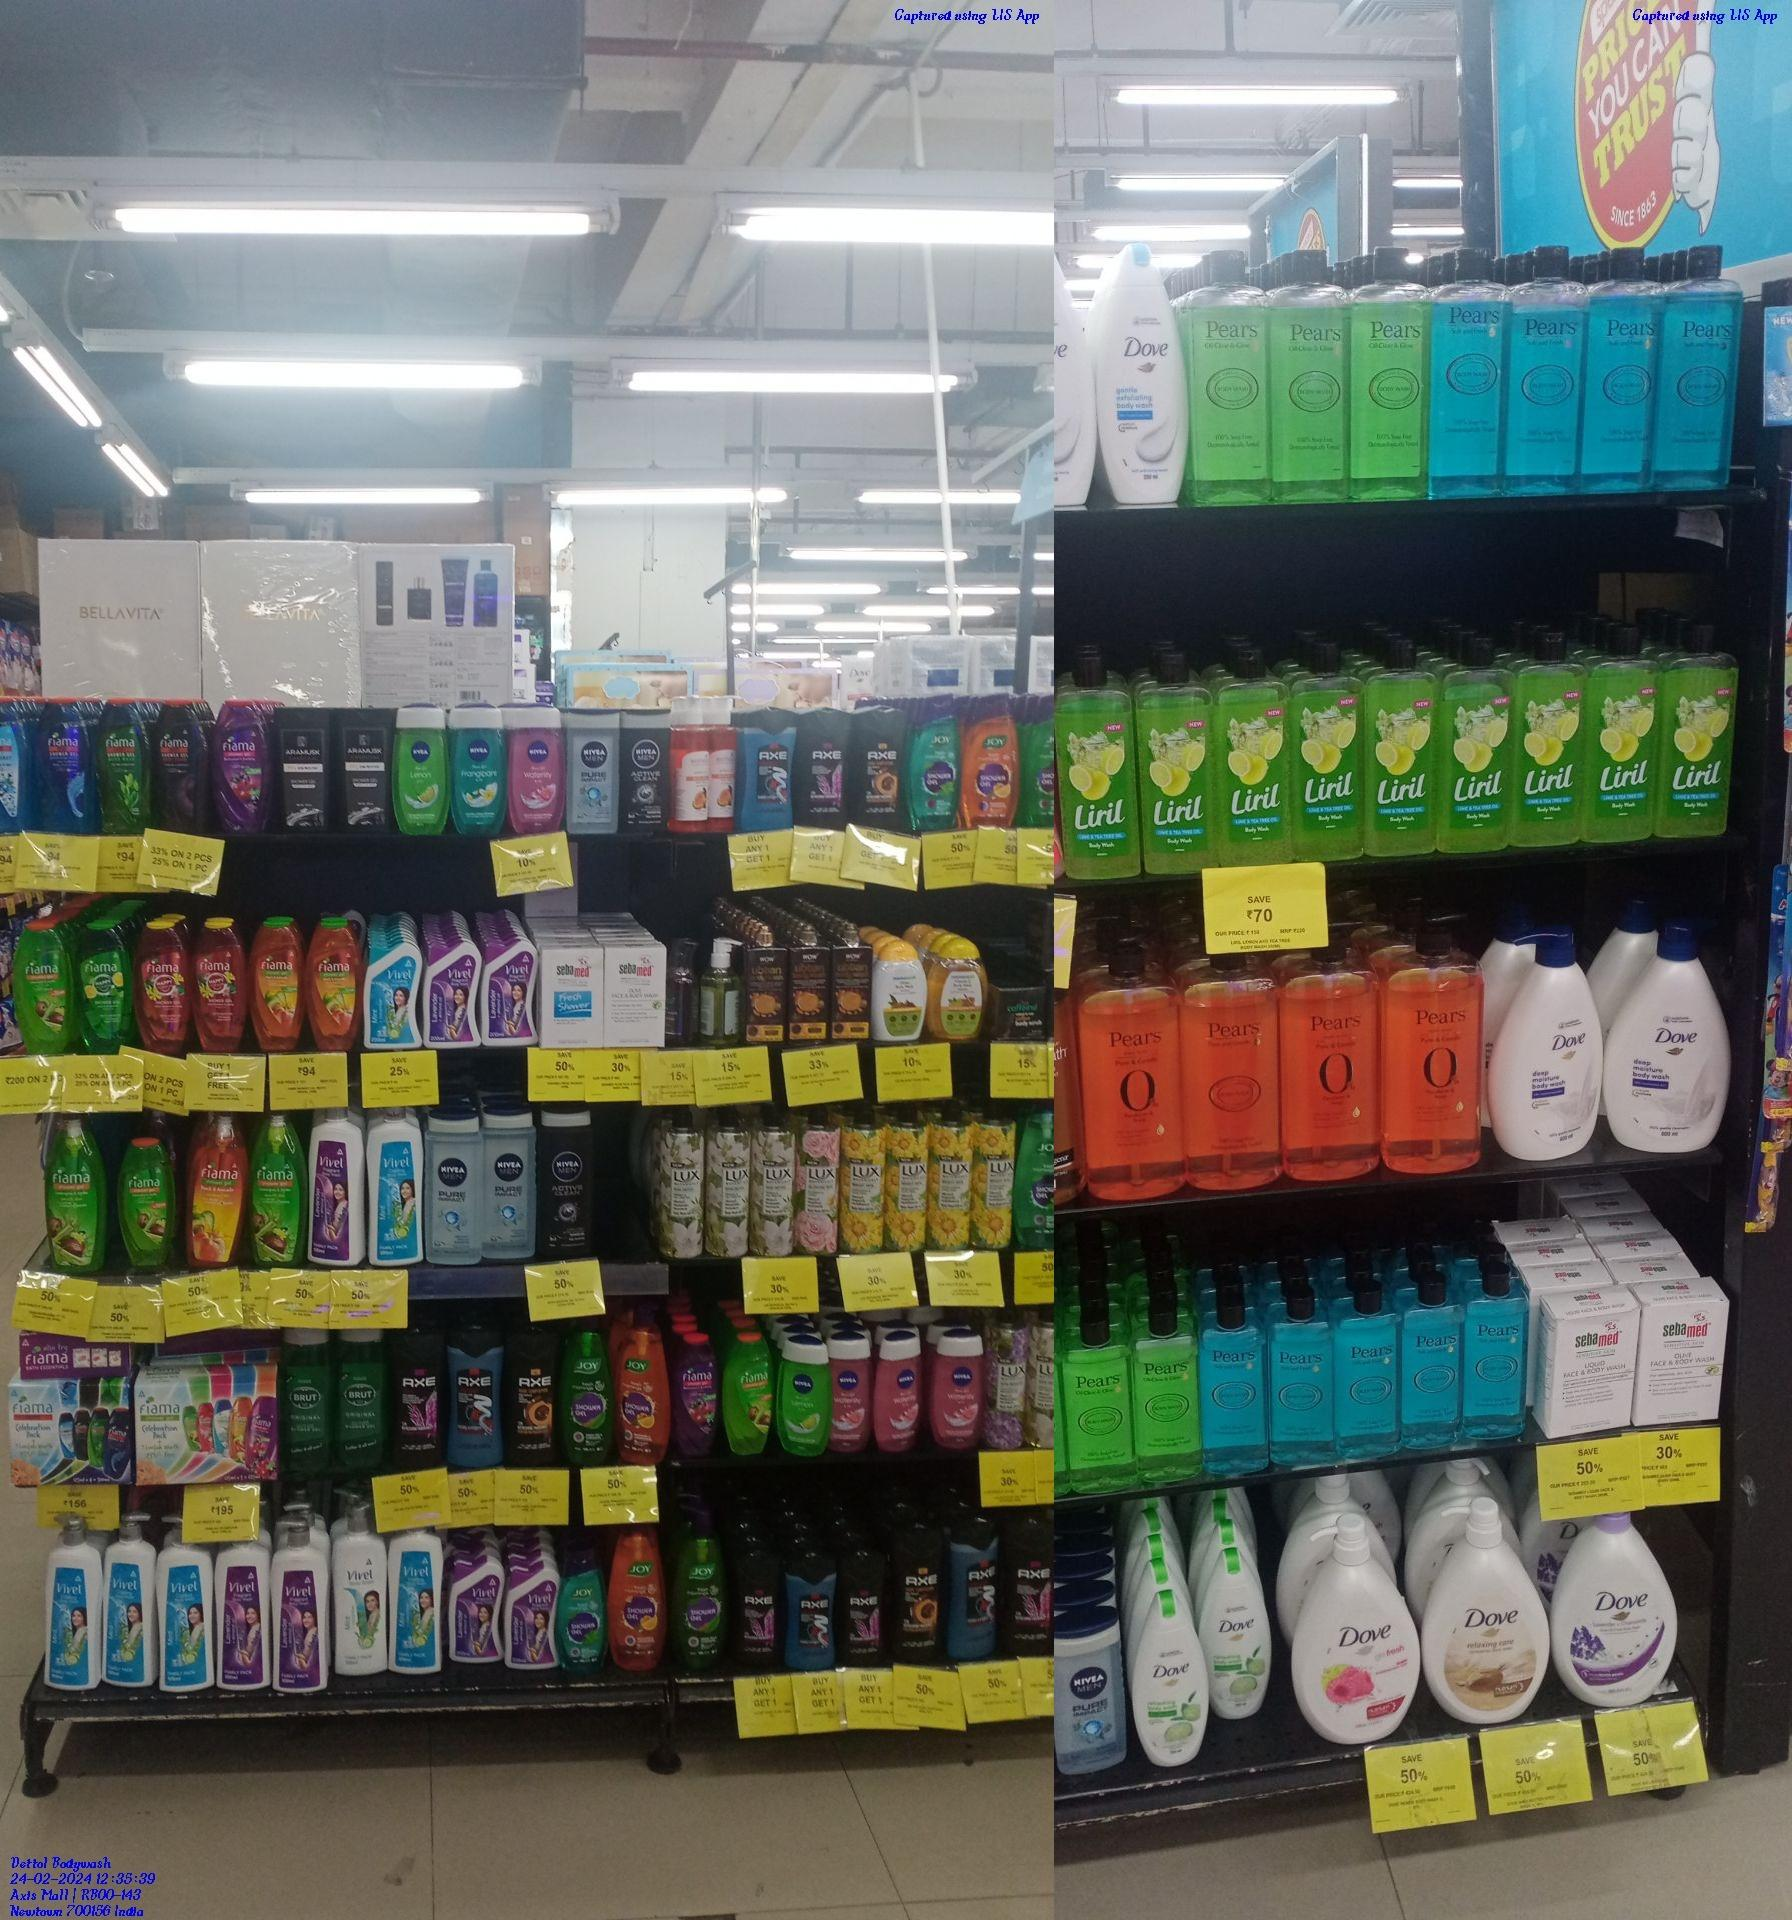Dove_Gentle_Exfoliating_Body_Wash_250ML: (1105, 246, 1186, 500)
Dove_Refreshing_Body_Wash_250ML: (1133, 1592, 1211, 1767), (1214, 1553, 1270, 1721)
Fiama_Shower_Gel_Lemongrass_and_Jojoba_250ML: (10, 921, 71, 1056), (120, 1139, 172, 1272), (721, 1332, 771, 1455)
Fiama_Shower_Gel_Peach_and_Avocado_250ML: (307, 920, 357, 1053), (251, 923, 300, 1051)
Joy_Shower_Gel_Mandarin_and_Lemongrass_250ML: (967, 694, 1017, 829)
Joy_Shower_Gel_Mint_and_Eucalyptus_250ML: (911, 694, 957, 832), (554, 1546, 600, 1666)
Liril_Lime_and_Tea_Tree_Oil_Body_Wash_250ML: (1056, 653, 1135, 876), (1140, 648, 1213, 872), (1664, 618, 1736, 842), (1216, 650, 1290, 866), (1368, 635, 1438, 857), (1293, 642, 1364, 859), (1587, 621, 1656, 844), (1443, 632, 1507, 849), (1517, 630, 1580, 847)
Nivea_Shower_Gel_Frangipani_and_Oil_250ML: (455, 706, 507, 835)
Nivea_Shower_Gel_Lemon_and_Oil_250ML: (775, 1339, 830, 1457), (399, 707, 448, 837)
Nivea_Shower_Gel_Waterlily_and_Oil_250ML: (514, 709, 564, 834), (936, 1331, 984, 1447), (877, 1334, 923, 1450), (832, 1332, 872, 1452)
Pears_Pure_Glycerin_and_Lemon_Flower_Extracts_Body_Wash_250ML: (1191, 249, 1267, 482), (1275, 249, 1347, 482), (1356, 246, 1423, 482), (1064, 1312, 1130, 1497), (1135, 1304, 1201, 1479)
Pears_Pure_Glycerin_and_Mint_Extracts_Body_Wash_250ML: (1662, 243, 1741, 488), (1507, 246, 1585, 475), (1428, 249, 1502, 477), (1590, 248, 1654, 477), (1272, 1288, 1336, 1465), (1204, 1299, 1268, 1474), (1339, 1287, 1401, 1464), (1405, 1277, 1465, 1452), (1472, 1277, 1526, 1442)
